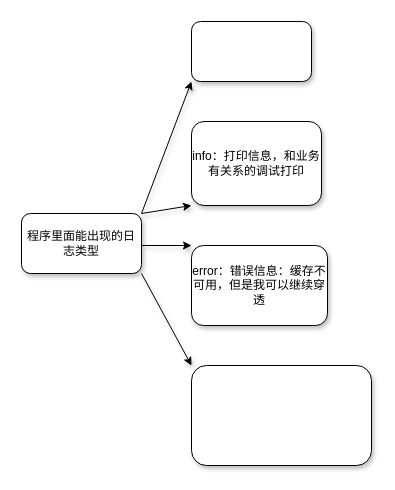
The diagram is 395 pixels wide and 490 high, and some of its shapes have lost their labels. The centre of each missing label's shape, as x and y in pixels:
"critical:要写入的目标挂了，只能退出程序了，并且回滚所有事务操作" belongs at point (282, 416).
"debug:调试信息，各个资源的打开，查询，关闭" belongs at point (252, 52).
